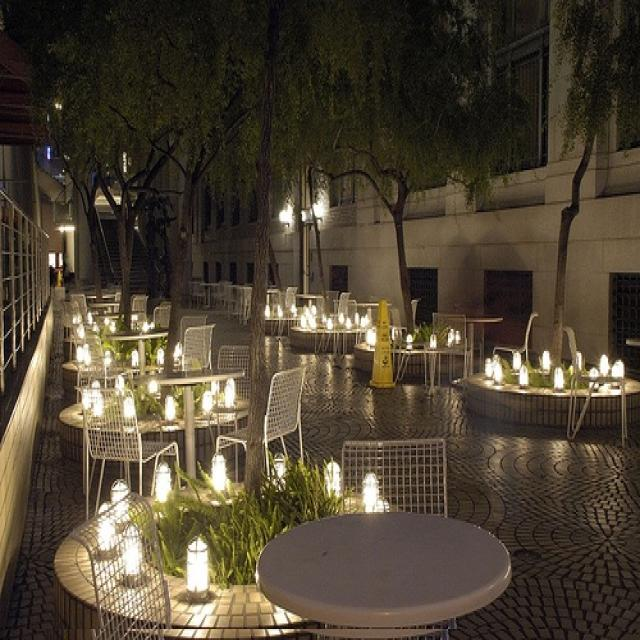chair: (68, 492, 173, 638), (77, 384, 180, 497), (215, 362, 306, 477), (338, 437, 448, 516), (563, 329, 630, 444), (421, 311, 470, 389), (216, 344, 254, 406), (494, 313, 539, 362), (182, 322, 212, 371)
diningtable: (255, 495, 514, 631), (123, 366, 244, 484)
